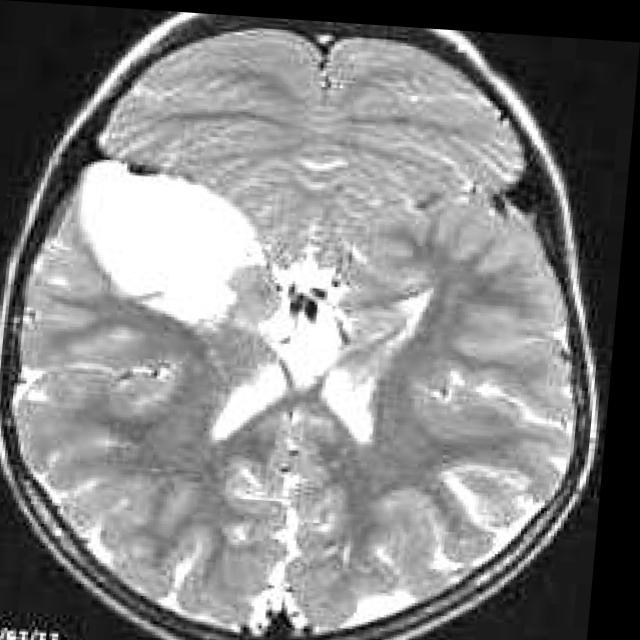Tumor: (85, 161, 269, 314)
